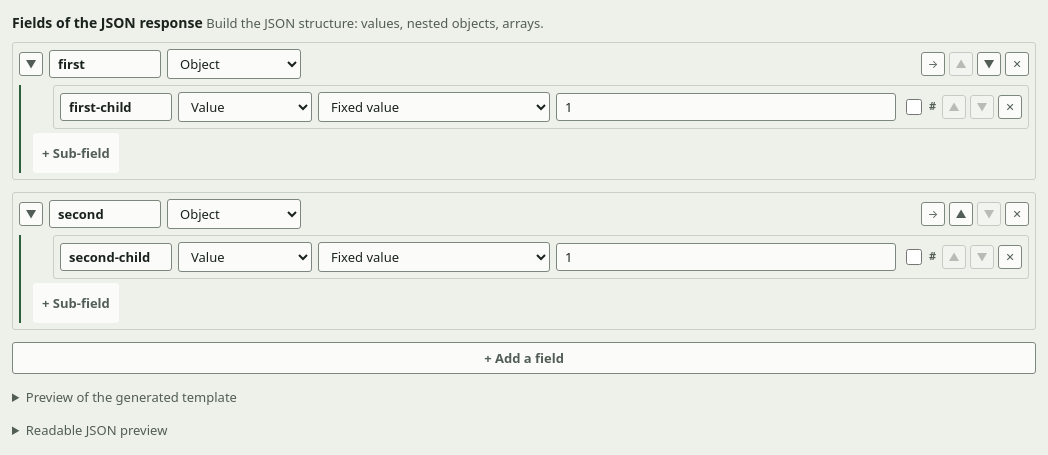
Test: JsonResponseBuilder: a fold follows its field › when the folded field moves down
The image size is (1048, 455).
Click the 1st button "▼". click: point(31, 64)
box: [19,52,43,76]
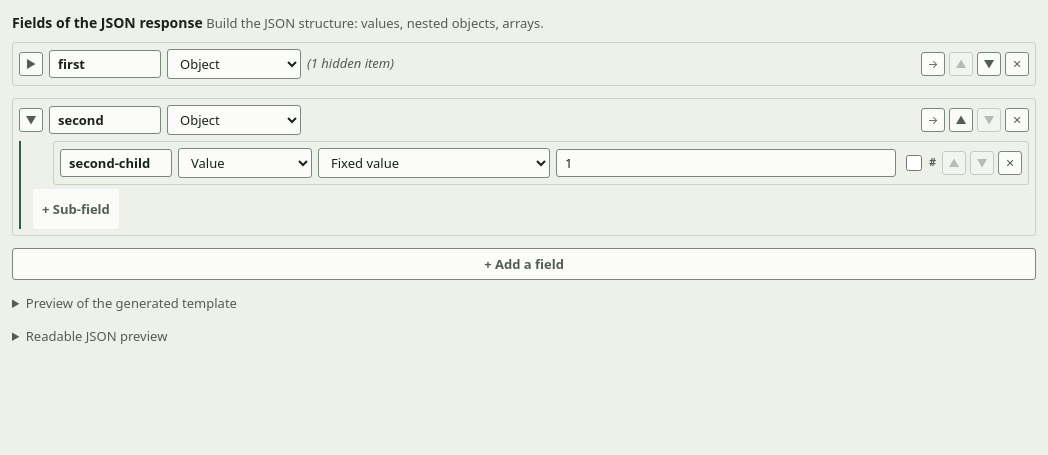
Click the button "▼" in the row of "(1 hidden item)". click: point(989, 64)
box: [977,52,1001,76]
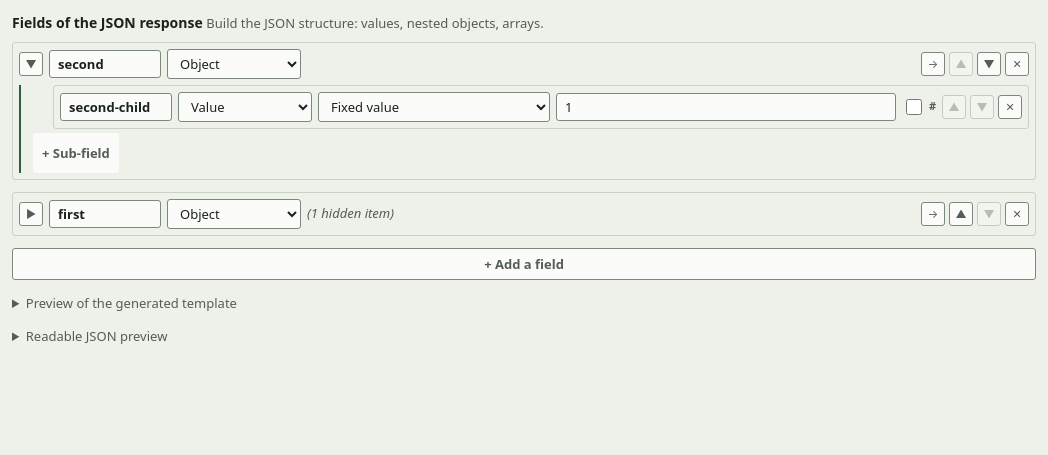
Now the field with test id "json-builder-key-input-1" holds "first", box [49,200,161,228]
